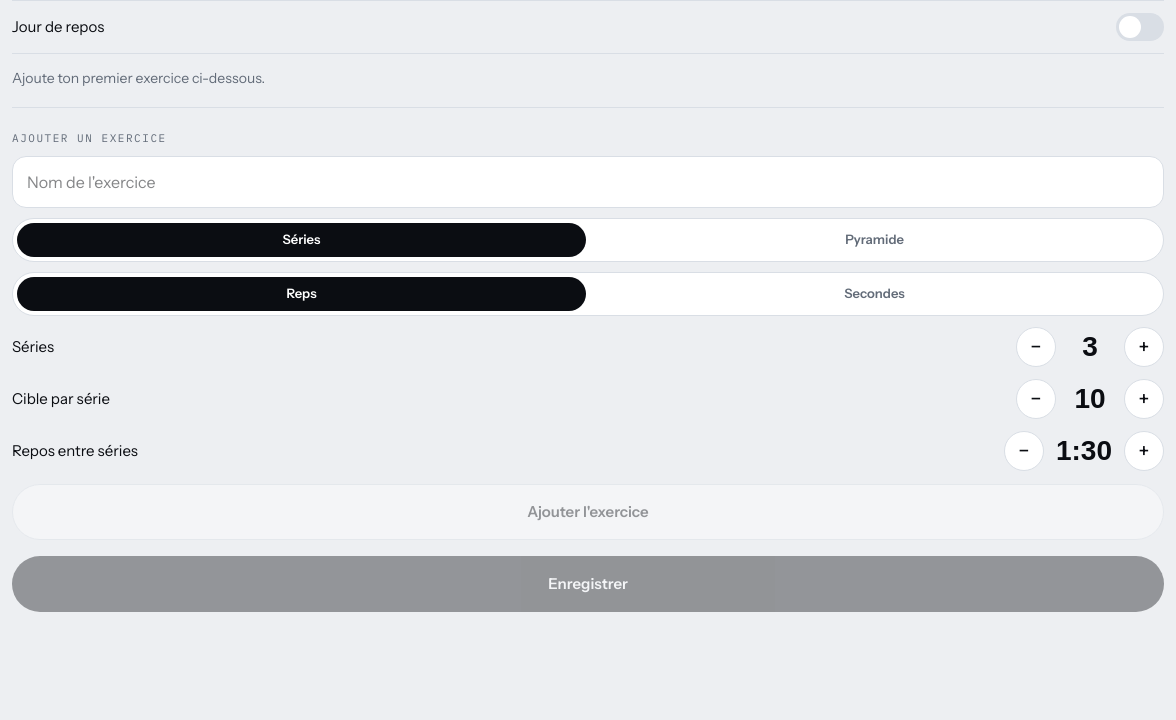
DayEditor › locks the unit to a known exercise's unit
Type "Planche" into the field with placeholder "Nom de l'exercice" at (588, 182), box [12,156,1164,208]
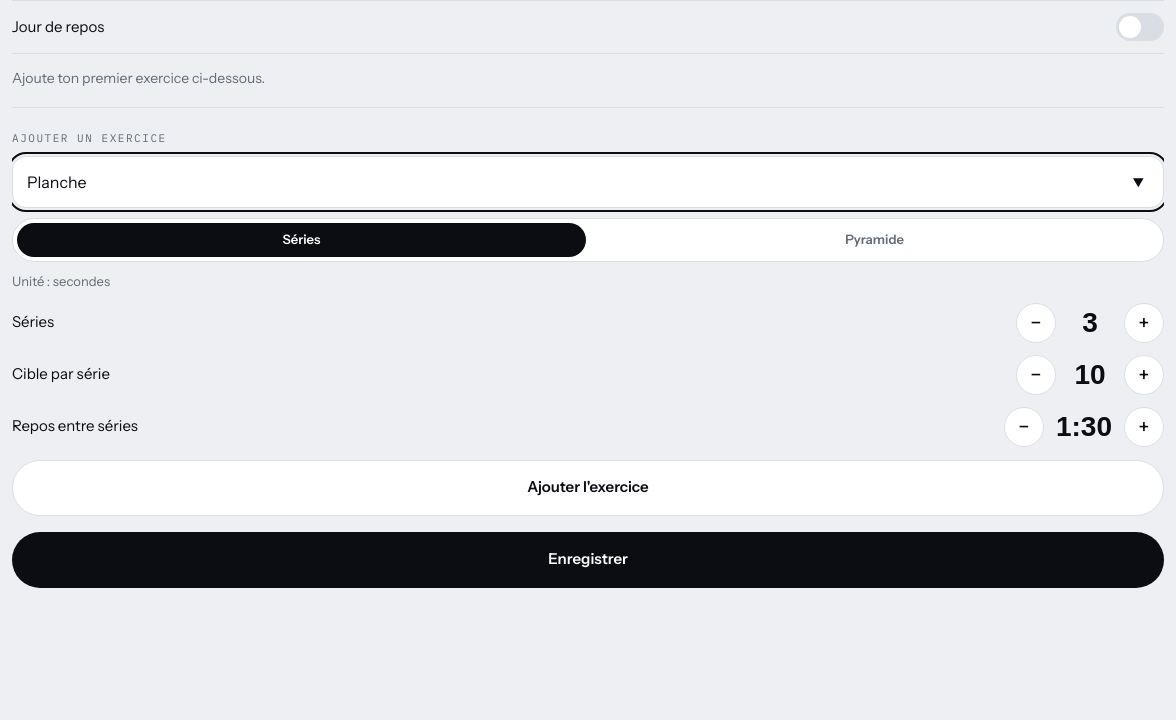
Expected: the text "Unité : secondes" is shown, [12,273,110,289]
Click the button "Ajouter l'exercice" at (588, 488), box [12,460,1164,516]
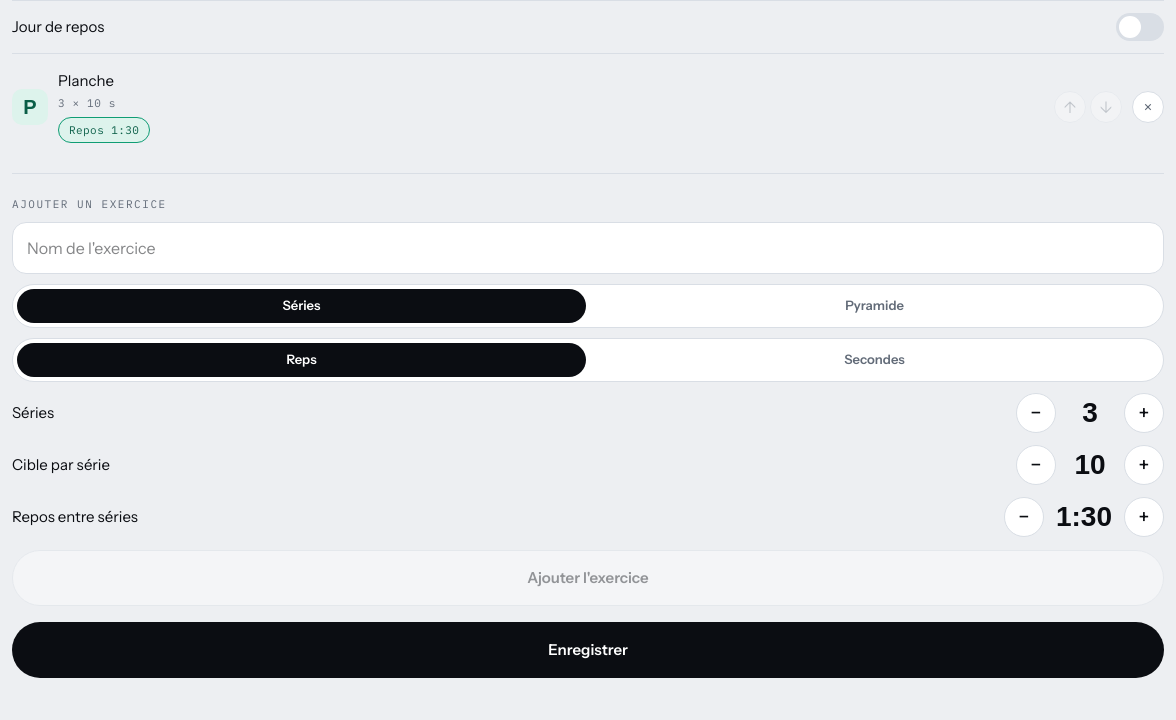
Expected: the text "3 × 10 s" is shown, [58,96,116,110]
